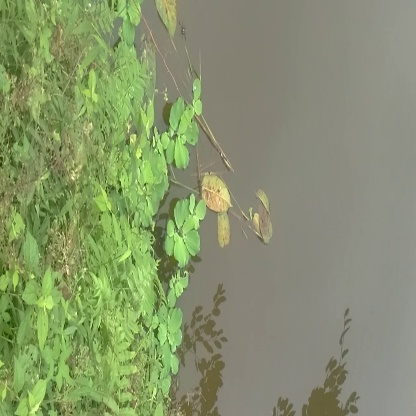leaf: (194, 169, 235, 213)
